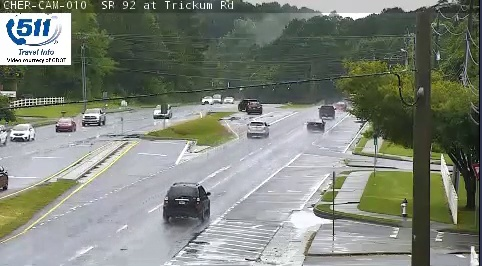car: (163, 183, 209, 217), (246, 120, 269, 136), (318, 105, 335, 119), (306, 119, 324, 131)
